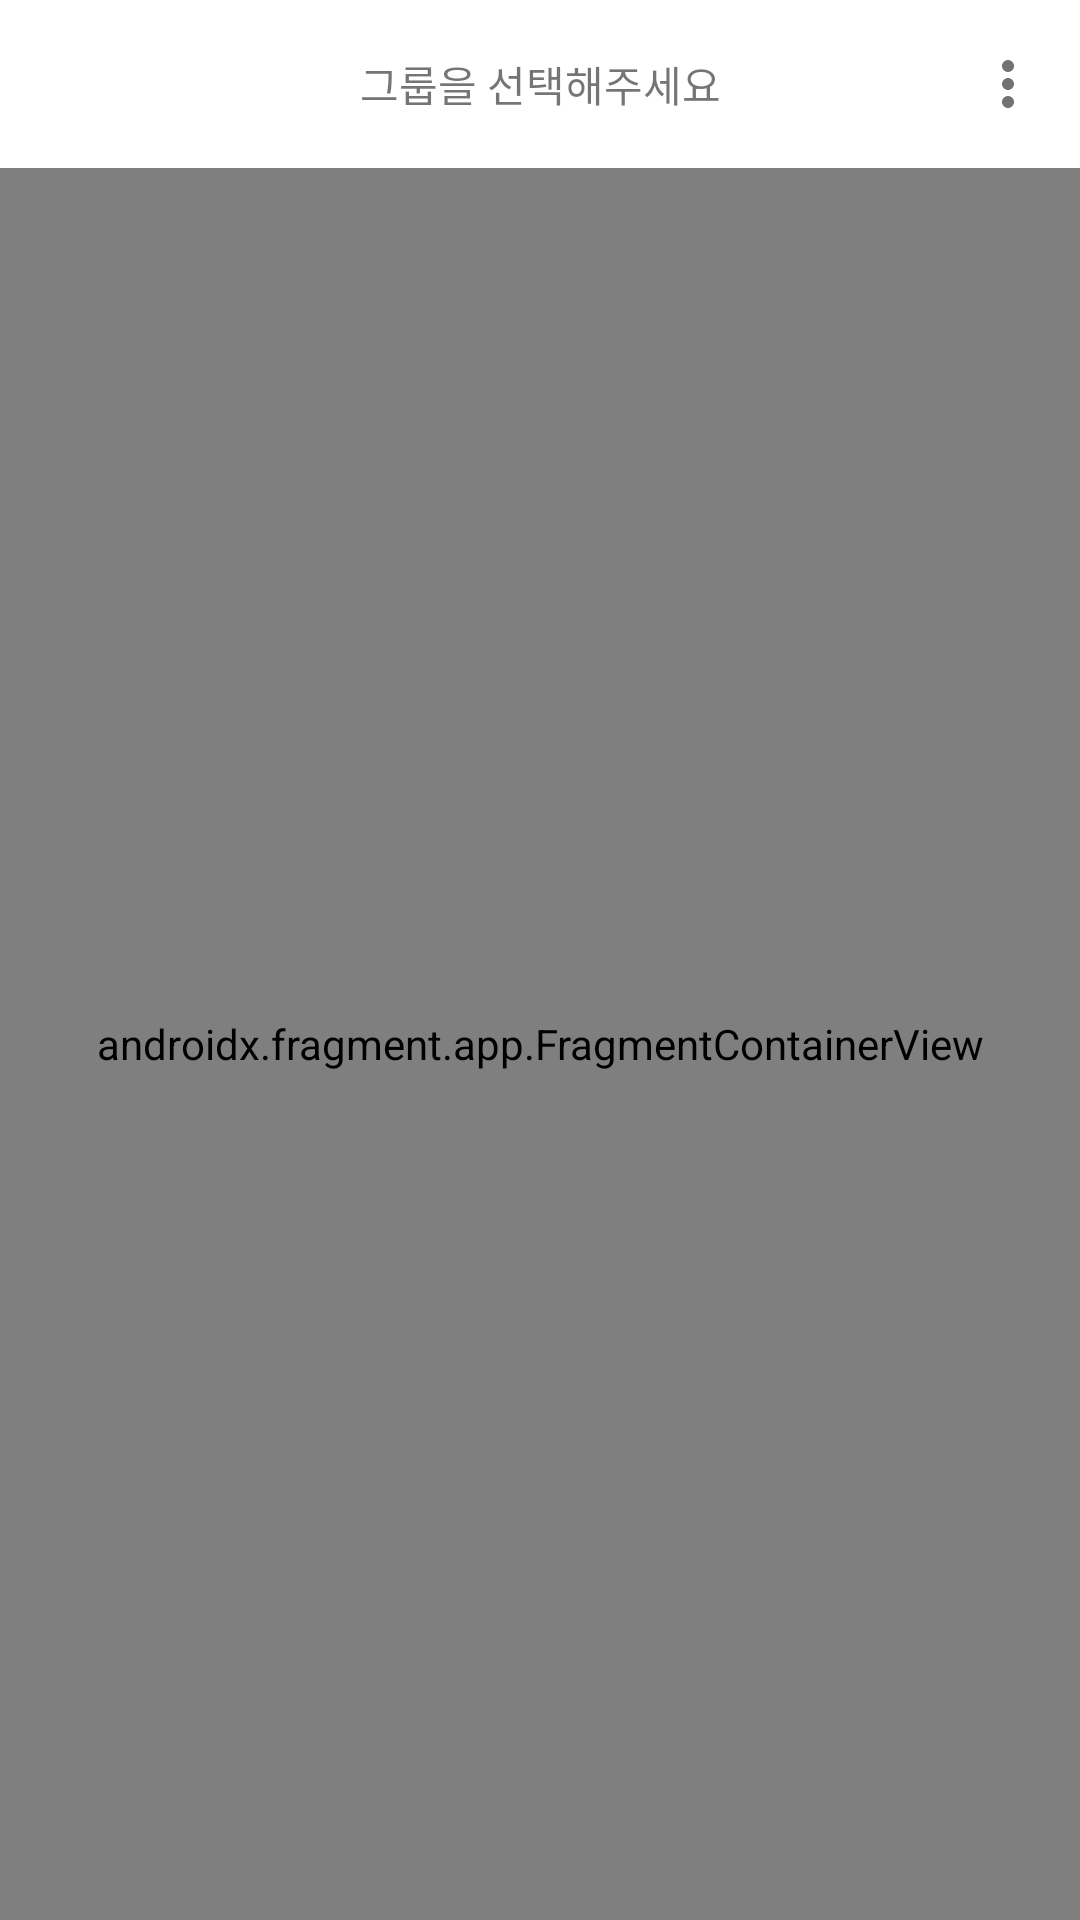

Where to tap for icons on this 1080px x 1920px app screen, as (x=x, y=y):
more button: (x=1008, y=84)
